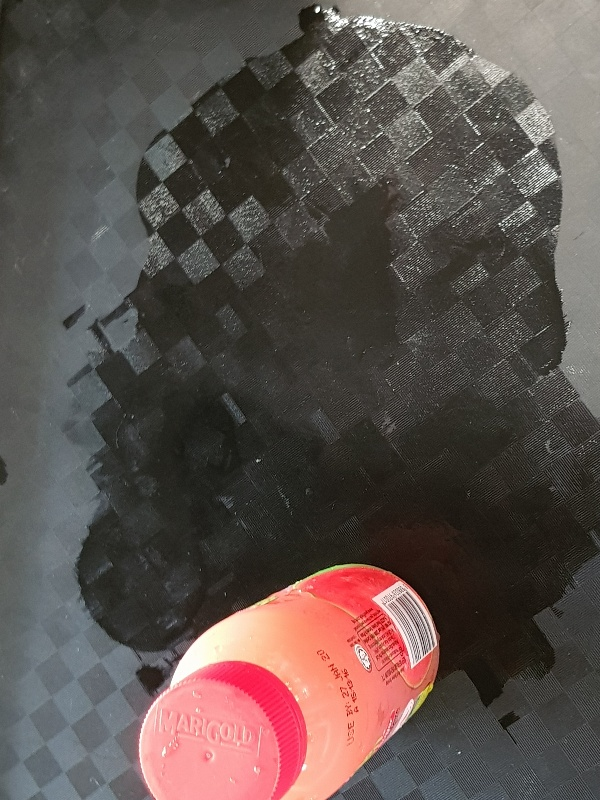Marigold Peel Fresh Pink Guava Juice Drink: (135, 559, 442, 800)
